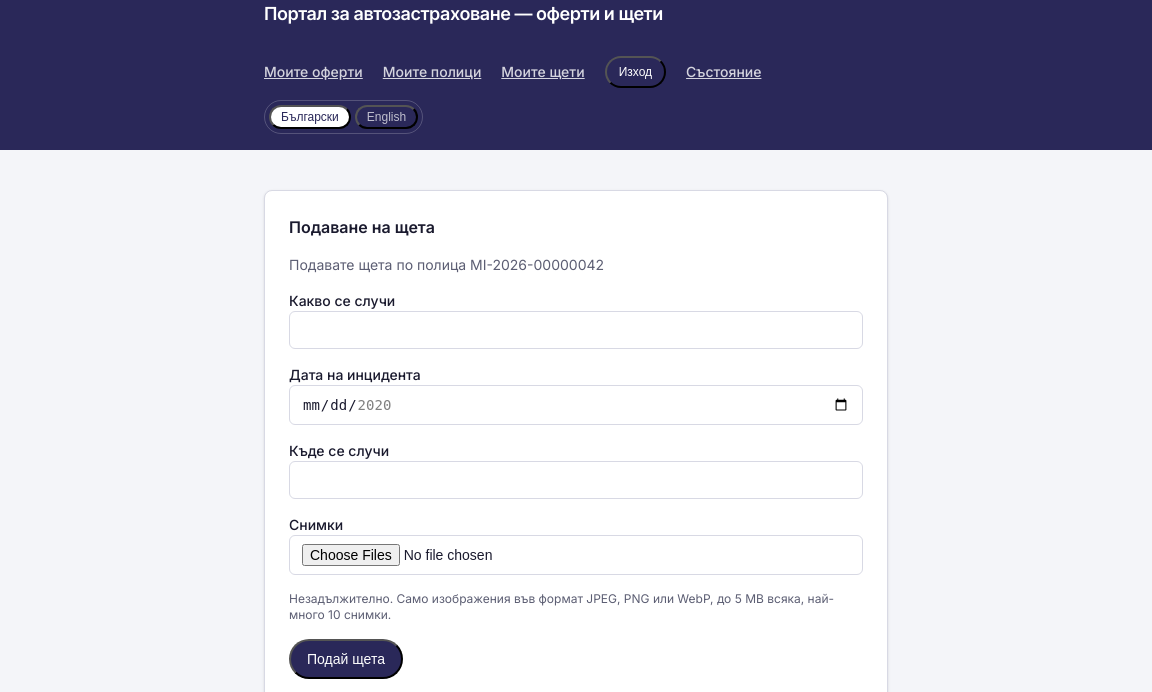
Test: FnolForm › renders a field-level error under the photo list for a backend attachment rejection the client missed
Type "Rear bumper damage in a parking-lot collision." into the field labelled "Какво се случи". click: (576, 330)
box: [289, 311, 863, 349]
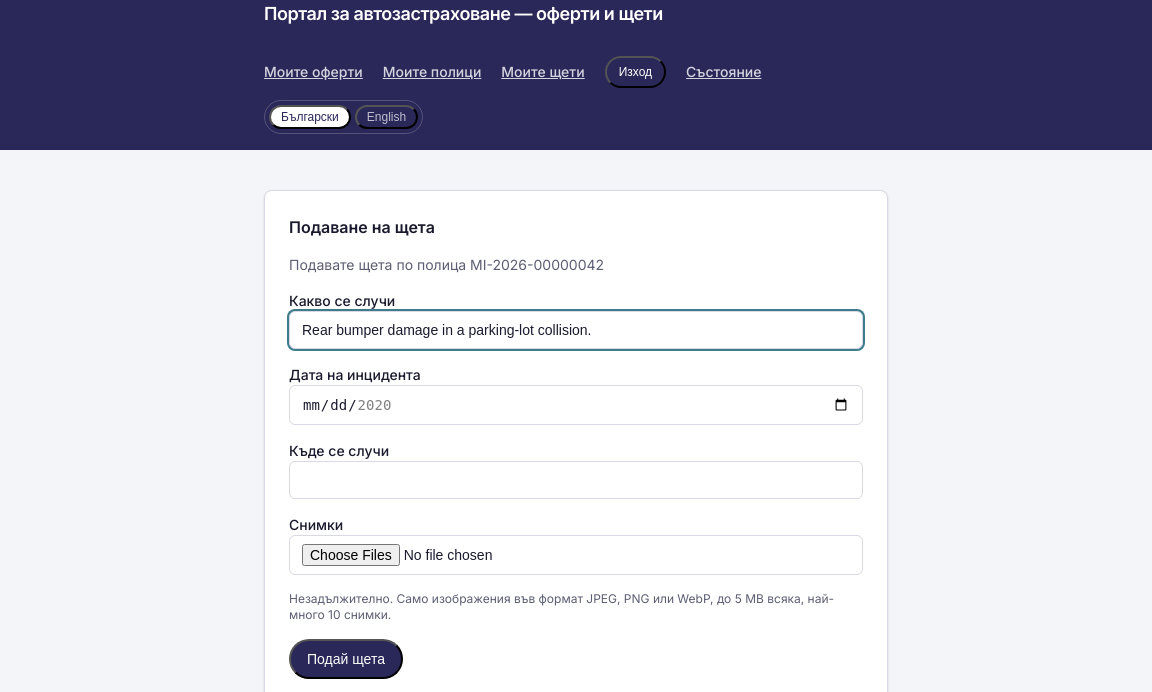
Type "2020-06-01" into the date field labelled "Дата на инцидента". click: (576, 405)
box: [289, 385, 863, 425]
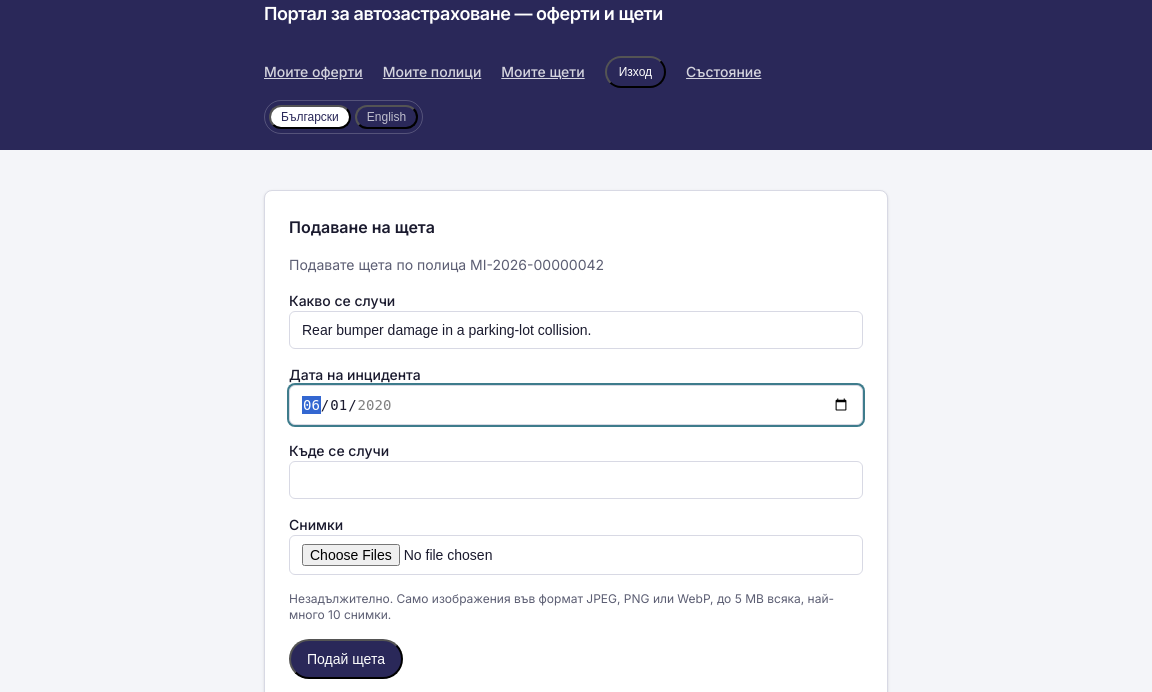
Type "Sofia, near NDK" into the field labelled "Къде се случи". click: (576, 480)
box: [289, 461, 863, 499]
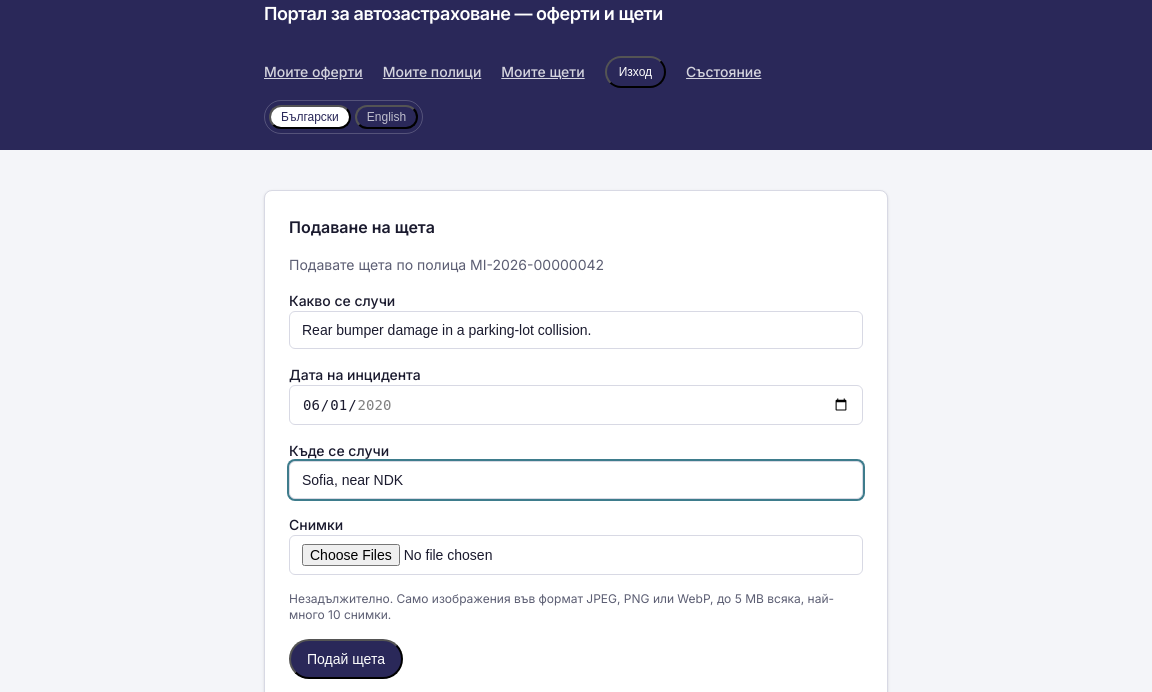
Click the button "Подай щета". click: (346, 659)
box: [289, 639, 403, 679]
(page scrolled)
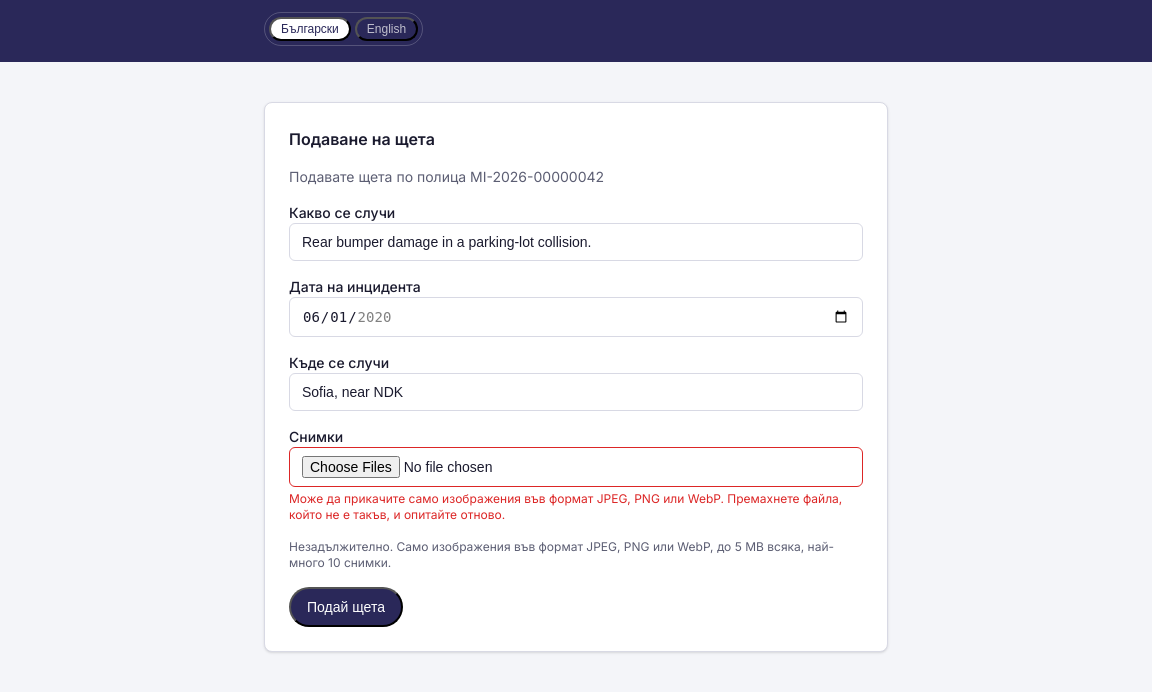
expect the button "Подай щета" is enabled: met, box [289, 587, 403, 627]
expect the text "Може да прикачите само изображения във формат JPEG, PNG или WebP. Премахнете файла, който не е такъв, и опитайте отново." is shown: met, box [289, 491, 842, 522]
